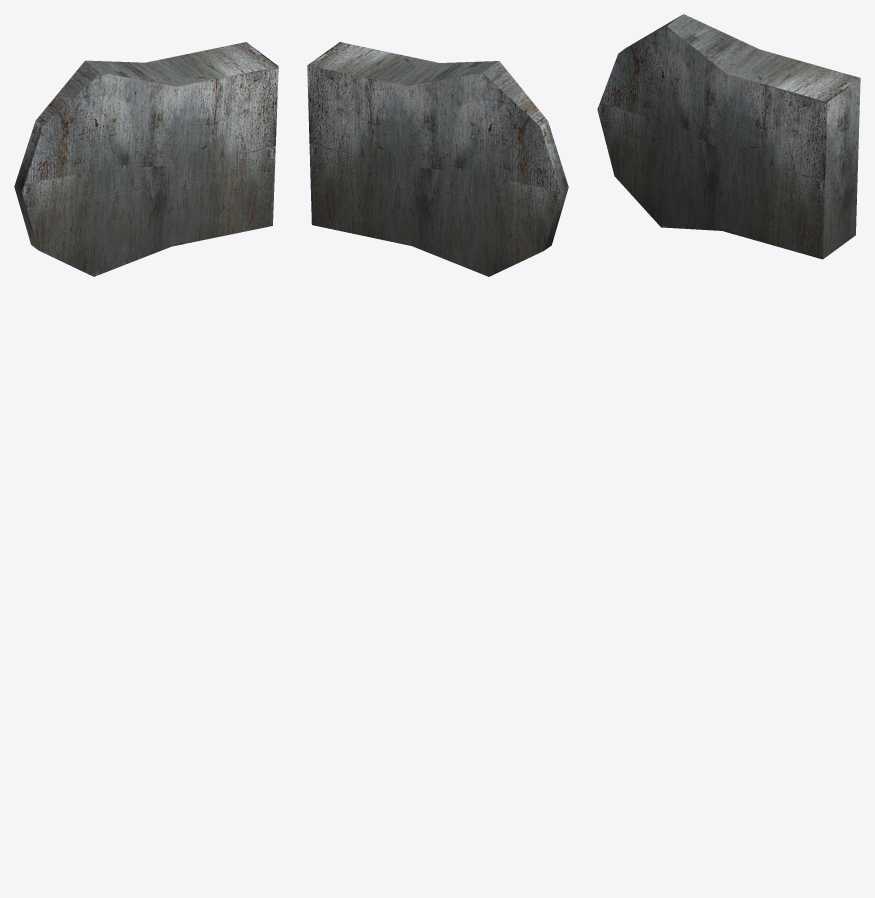
File: axeWorker.FBX
The picture shows the model from 3 angles, left to right: view 1: azimuth 30°, elevation 25°; view 2: azimuth 150°, elevation 25°; view 3: azimuth 330°, elevation 25°; orthographic projection.
Parts seen in each view (by area): view 1: axe; view 2: axe; view 3: axe.
Part boxes in pixels (x1,y1,x2,y2): axe: [14, 42, 278, 276]; axe: [307, 42, 568, 276]; axe: [597, 14, 860, 259].
Bounding box in the file's own units: 52.71 × 12.56 × 173.
